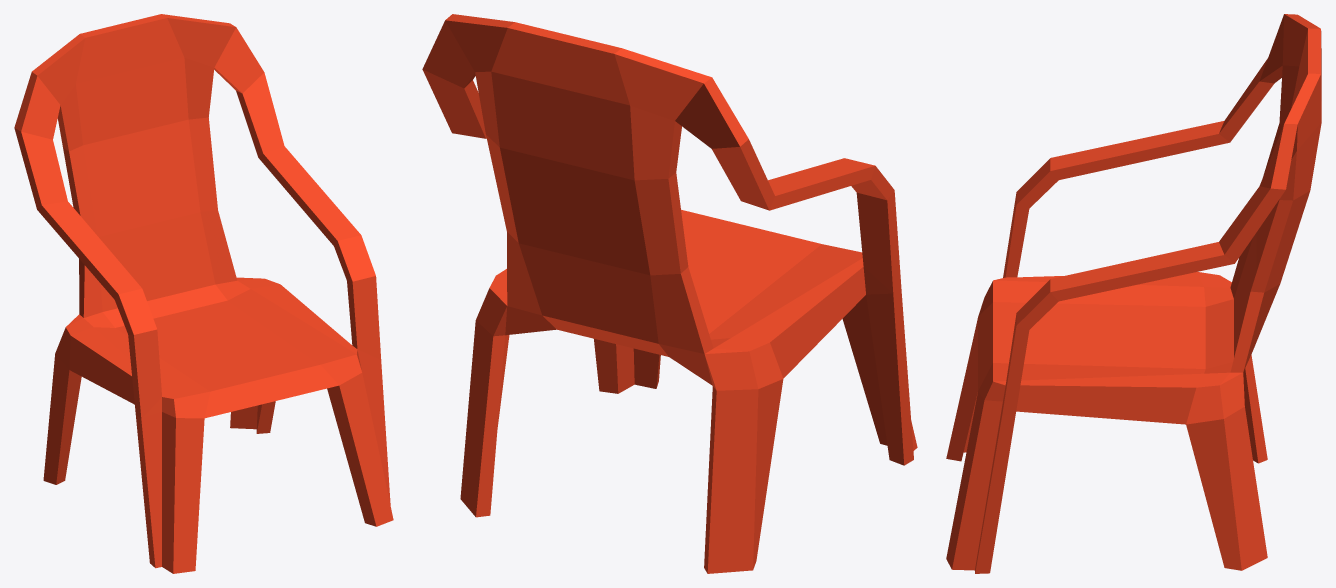
File: SM_Chair_Plastic_City.fbx
3 views of the same model, side by side, from view 1: azimuth 30°, elevation 25°; view 2: azimuth 150°, elevation 25°; view 3: azimuth 270°, elevation 25° (orthographic). The views are drawn at different scales.
Parts seen in each view (by area): view 1: SM_Chair_Plastic_City; view 2: SM_Chair_Plastic_City; view 3: SM_Chair_Plastic_City.
Part boxes in pixels (x1,y1,x2,y2): SM_Chair_Plastic_City: (14,14,393,573); SM_Chair_Plastic_City: (422,14,917,573); SM_Chair_Plastic_City: (946,14,1321,573).
Bounding box in the file's own units: 0.7346 × 1.17 × 0.8663.
